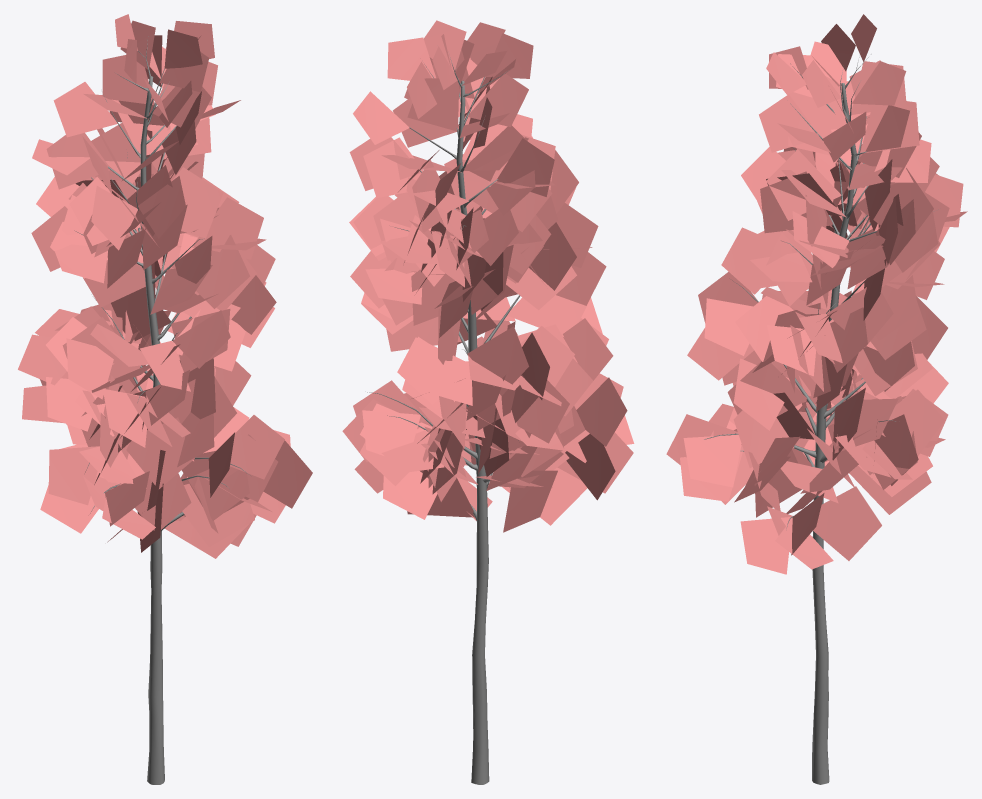
The model's file is Woods_Tree_LowPoly_002.gltf.
3 renders of one model, left to right at view 1: azimuth 30°, elevation 25°; view 2: azimuth 150°, elevation 25°; view 3: azimuth 270°, elevation 25°, orthographic.
Visible parts, largest first — view 1: Woods_Tree_LowPoly_002; view 2: Woods_Tree_LowPoly_002; view 3: Woods_Tree_LowPoly_002.
Boxes of the visible parts, x1,y1,x2,y2 form: Woods_Tree_LowPoly_002: [18, 14, 312, 784]; Woods_Tree_LowPoly_002: [342, 20, 634, 784]; Woods_Tree_LowPoly_002: [666, 14, 967, 784].
Bounding box in the file's own units: 4.92 × 13.3 × 4.85.
